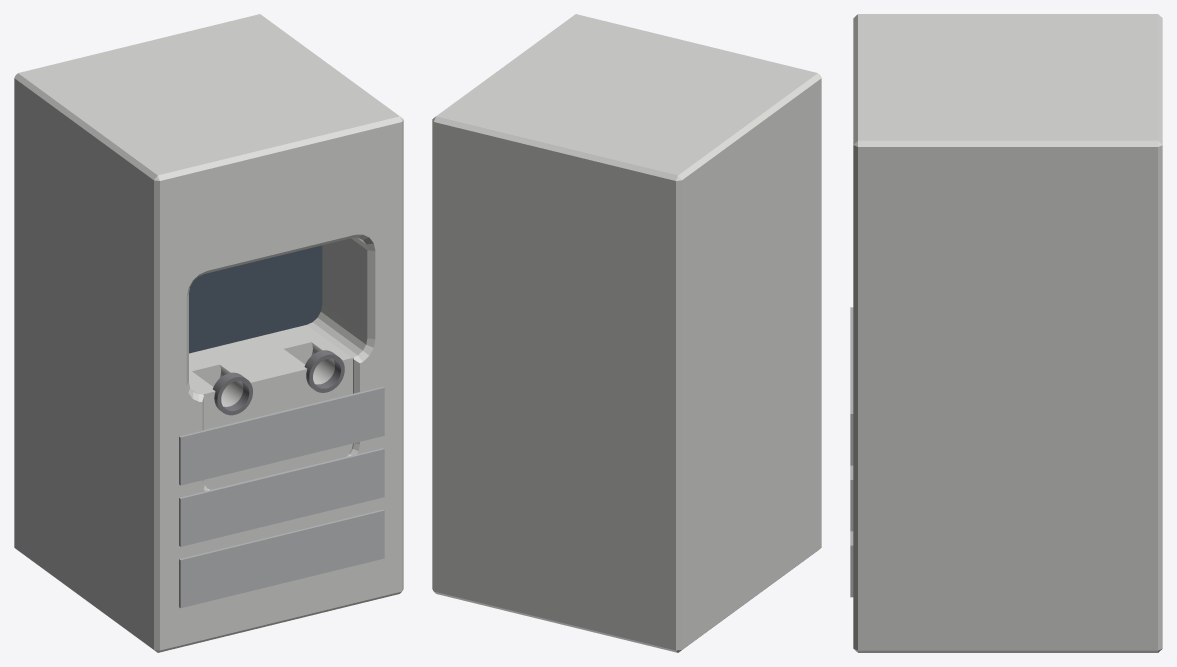
Rendered from ax_util_20_sample_analysis_rack.glb.
3 views of the same model, side by side, from view 1: azimuth 30°, elevation 25°; view 2: azimuth 150°, elevation 25°; view 3: azimuth 270°, elevation 25° (orthographic). The views are drawn at different scales.
Parts seen in each view (by area): view 1: housing, drawers, glovebox_window, glove_ports; view 2: housing; view 3: housing, drawers.
Part boxes in pixels (<box>): housing: <box>14,14,403,652</box>; drawers: <box>179,387,384,608</box>; glovebox_window: <box>189,245,322,353</box>; glove_ports: <box>213,350,344,415</box>; housing: <box>432,14,821,652</box>; housing: <box>853,14,1162,652</box>; drawers: <box>850,307,853,597</box>.
Bounding box in the file's own units: 0.98 × 1.79 × 0.99.
